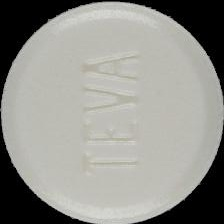76237-161: (0, 0, 224, 224)
